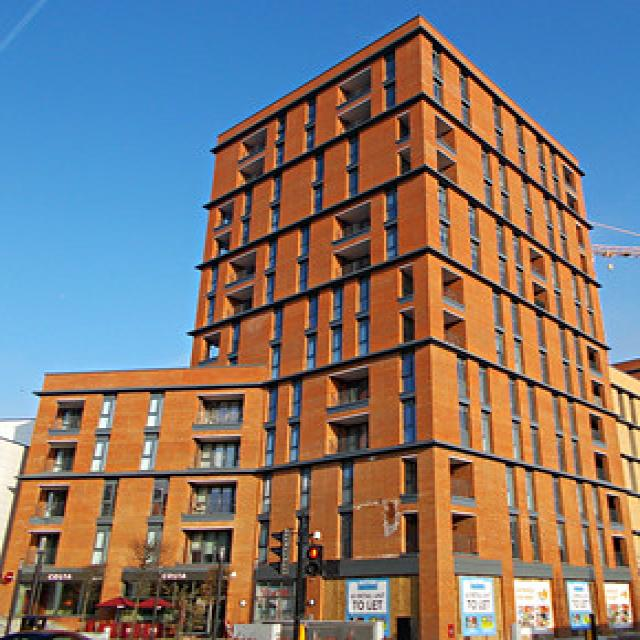building: (198, 10, 636, 640)
